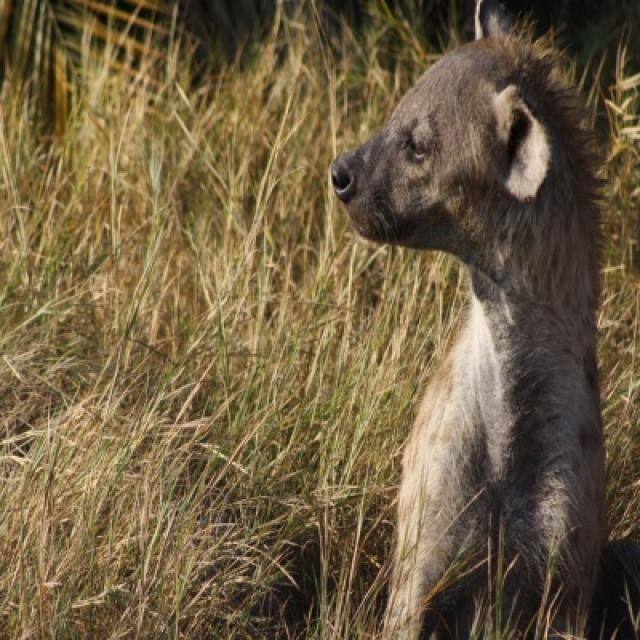hyena: (330, 30, 638, 638)
